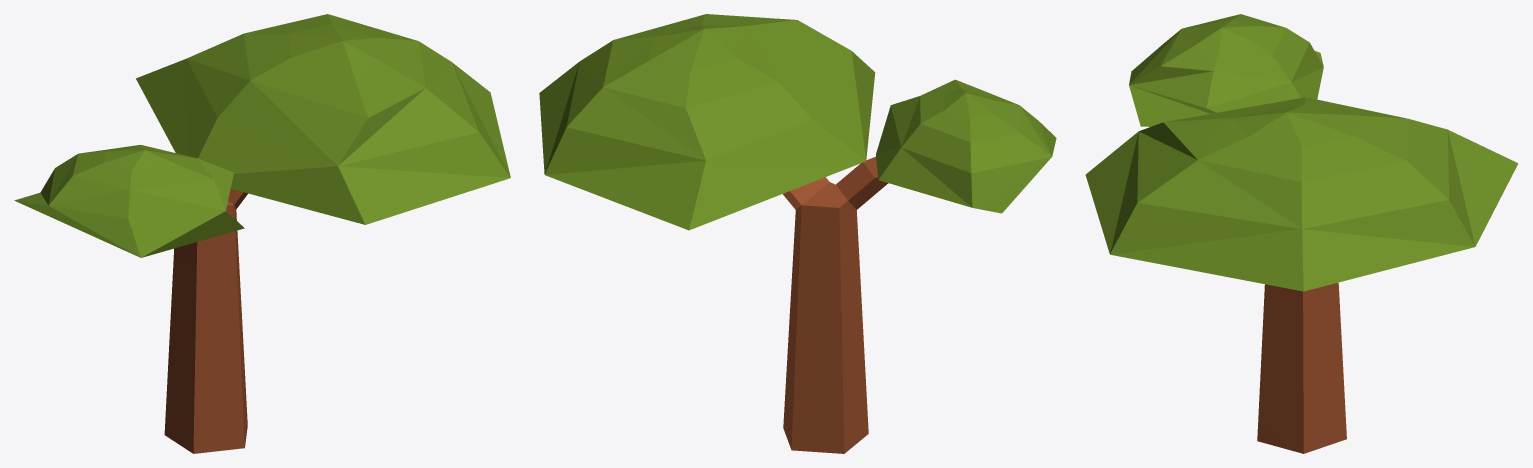
File: tree_4.dae
The picture shows the model from 3 angles, left to right: view 1: azimuth 30°, elevation 25°; view 2: azimuth 150°, elevation 25°; view 3: azimuth 270°, elevation 25°; orthographic projection. The views are drawn at different scales.
Visible parts, largest first — view 1: group_3, group_1, group_2; view 2: group_3, group_2, group_1; view 3: group_3, group_1, group_2.
Boxes of the visible parts, x1,y1,x2,y2 form: group_3: [136, 14, 510, 224]; group_1: [14, 144, 244, 257]; group_2: [164, 189, 247, 453]; group_3: [539, 14, 875, 230]; group_2: [783, 156, 888, 453]; group_1: [876, 79, 1056, 213]; group_3: [1085, 97, 1518, 291]; group_1: [1129, 14, 1323, 126]; group_2: [1257, 282, 1346, 453].
Size of the model in its own units: 569 by 429 by 422.
